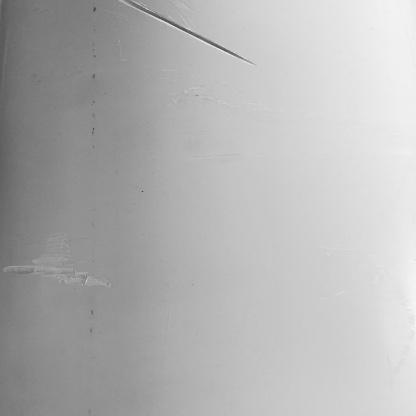sunshang: (115, 1, 256, 67), (1, 232, 115, 291)
